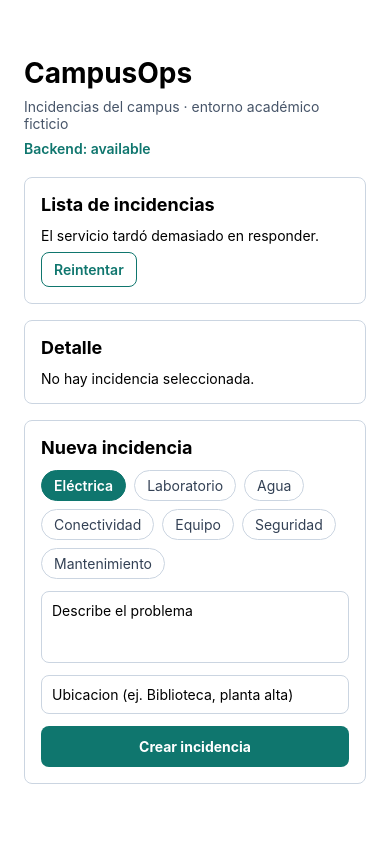
Test: pantalla (sin HTTP directo) › error de lista se muestra con mensaje publico y permite reintentar
The image size is (390, 844).
Expected: the text "El servicio tardó demasiado en responder." is shown, [41, 227, 349, 244]
Click the button "Reintentar" at (89, 270), box [41, 252, 137, 287]
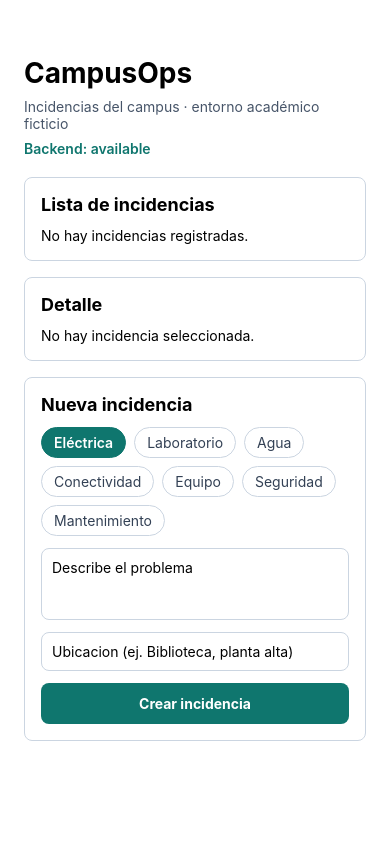
Expected: the text "No hay incidencias registradas." is shown, [41, 227, 248, 244]
